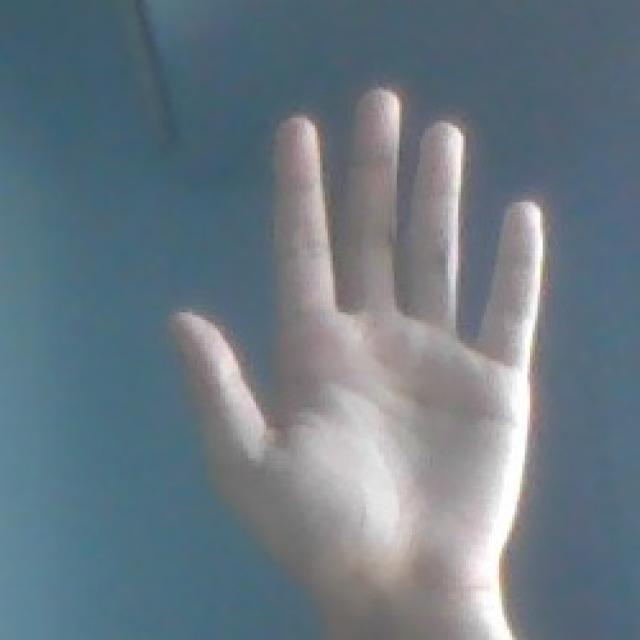Numeric-5: (174, 81, 548, 598)
